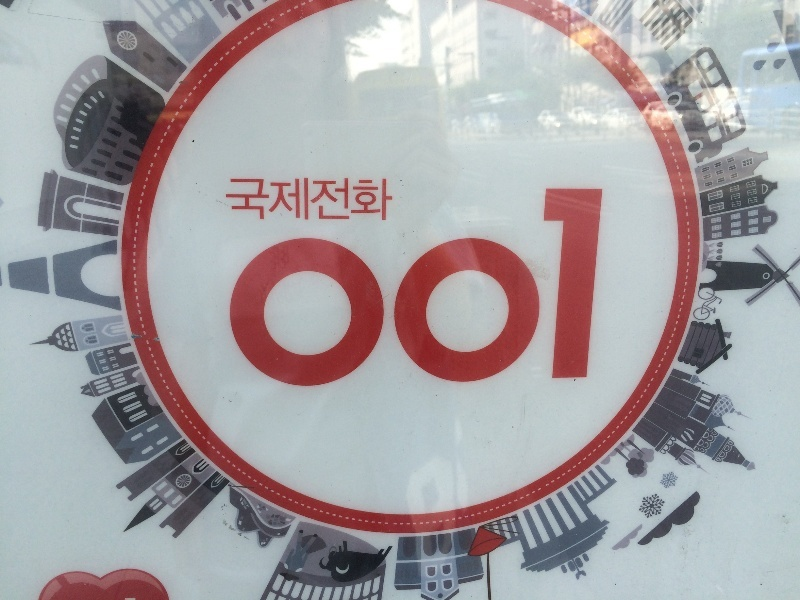text: (225, 186, 240, 396), (241, 186, 256, 396), (257, 186, 272, 396), (273, 186, 288, 396), (289, 186, 304, 396), (305, 186, 320, 396), (321, 186, 336, 396), (337, 186, 352, 396), (353, 186, 368, 396), (369, 186, 384, 396), (385, 186, 400, 396), (401, 186, 416, 396), (417, 186, 432, 396), (433, 186, 448, 396), (449, 186, 464, 396), (465, 186, 480, 396), (481, 186, 496, 396), (497, 186, 512, 396), (513, 186, 528, 396), (529, 186, 544, 396), (545, 186, 560, 396), (561, 186, 576, 396), (577, 186, 592, 396), (593, 186, 608, 396), (385, 162, 401, 235), (225, 162, 240, 235), (241, 162, 256, 235), (257, 162, 272, 235), (273, 162, 288, 235), (289, 162, 304, 235), (305, 162, 320, 235), (321, 162, 336, 235), (337, 162, 352, 235), (353, 162, 368, 235), (369, 162, 384, 235), (215, 162, 224, 235), (222, 186, 224, 396), (609, 186, 611, 396)
